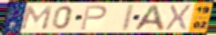0: (52, 5, 75, 31)
A: (132, 4, 166, 32)
I: (119, 3, 137, 33)
M: (19, 5, 54, 31)
P: (79, 5, 109, 31)
X: (163, 4, 194, 31)
